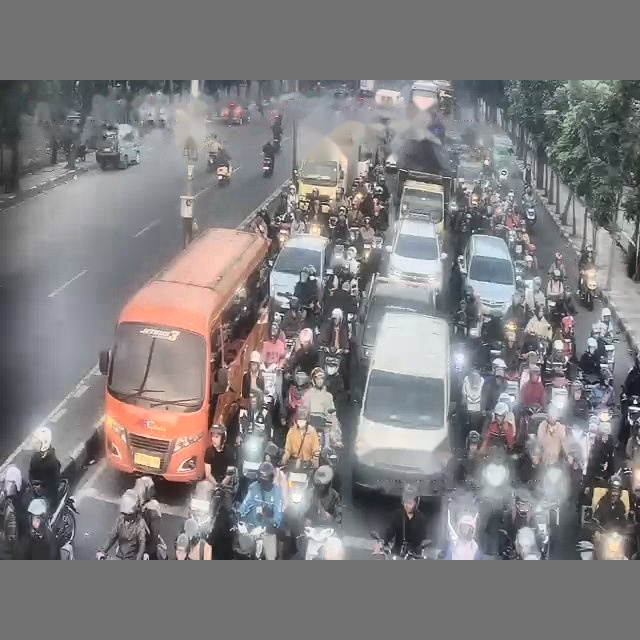Bis: (99, 229, 268, 482)
